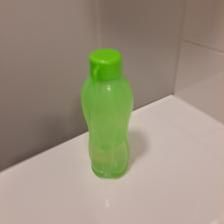bottle: (78, 45, 138, 179)
